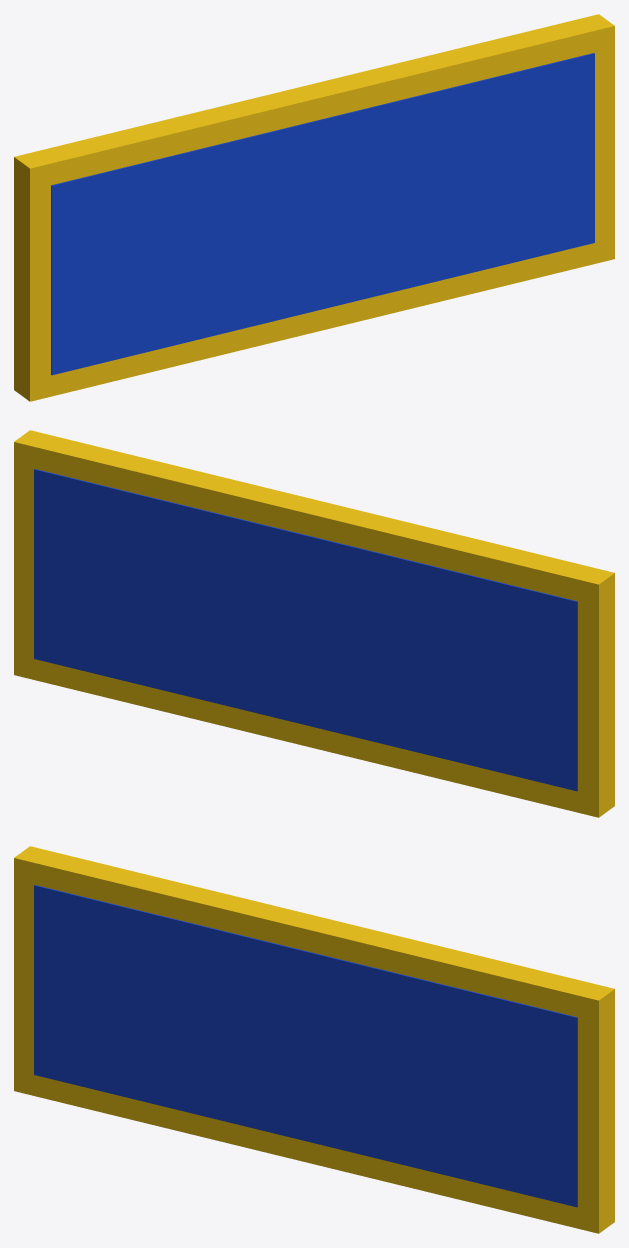
File: shop_signboard.glb
The picture shows the model from 3 angles, top to bottom: view 1: azimuth 30°, elevation 25°; view 2: azimuth 150°, elevation 25°; view 3: azimuth 330°, elevation 25°; orthographic projection.
Visible parts, largest first — view 1: ShopSignboard; view 2: ShopSignboard; view 3: ShopSignboard.
Part boxes in pixels (<box>): ShopSignboard: <box>14,14,614,401</box>; ShopSignboard: <box>14,430,614,817</box>; ShopSignboard: <box>14,846,614,1233</box>.
Size of the model in its own units: 4.2 by 1.6 by 0.22.
